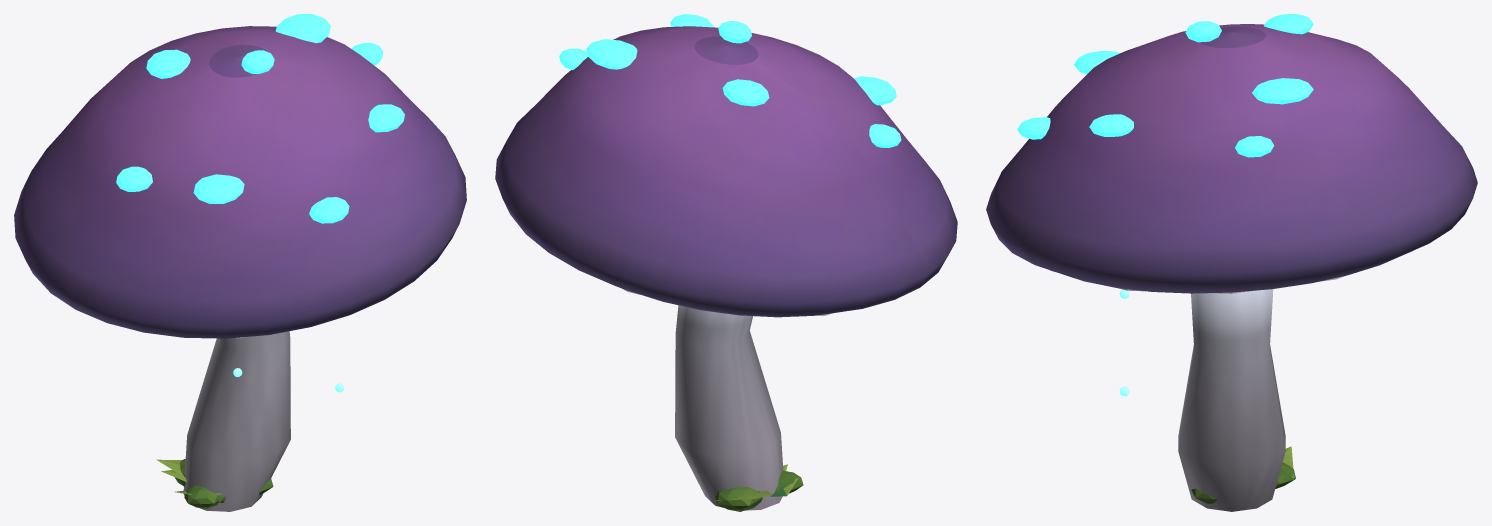
Rendered from forest_mushroom_purple.glb.
3 views of the same model, side by side, from view 1: azimuth 30°, elevation 25°; view 2: azimuth 150°, elevation 25°; view 3: azimuth 270°, elevation 25° (orthographic). The views are drawn at different scales.
Visible parts, largest first — view 1: Broad faceted mushroom cap.001, Curving luminous mushroom stem.001, Bioluminescent cap spot.008, Bioluminescent cap spot.012, Bioluminescent cap spot.011, Bioluminescent cap spot.009, Bioluminescent cap spot.010, Bioluminescent cap spot.014, Bioluminescent cap spot.013, Woodland shared moss cushion.024; view 2: Broad faceted mushroom cap.001, Curving luminous mushroom stem.001, Bioluminescent cap spot.012, Bioluminescent cap spot.011, Woodland shared moss cushion.022, Bioluminescent cap spot.008, Bioluminescent cap spot.014, Bioluminescent cap spot.013; view 3: Broad faceted mushroom cap.001, Curving luminous mushroom stem.001, Bioluminescent cap spot.012, Bioluminescent cap spot.009, Bioluminescent cap spot.011, Bioluminescent cap spot.015, Bioluminescent cap spot.013, Bioluminescent cap spot.010, Bioluminescent cap spot.008.
Part boxes in pixels (left/top/right/bottom): Broad faceted mushroom cap.001: left=14, top=26, right=466, bottom=338; Curving luminous mushroom stem.001: left=183, top=331, right=290, bottom=511; Bioluminescent cap spot.008: left=193, top=174, right=244, bottom=203; Bioluminescent cap spot.012: left=275, top=14, right=330, bottom=43; Bioluminescent cap spot.011: left=146, top=49, right=190, bottom=78; Bioluminescent cap spot.009: left=368, top=104, right=404, bottom=132; Bioluminescent cap spot.010: left=309, top=197, right=349, bottom=223; Bioluminescent cap spot.014: left=116, top=166, right=152, bottom=191; Bioluminescent cap spot.013: left=241, top=50, right=274, bottom=73; Woodland shared moss cushion.024: left=184, top=485, right=217, bottom=508; Broad faceted mushroom cap.001: left=495, top=26, right=957, bottom=317; Curving luminous mushroom stem.001: left=675, top=305, right=783, bottom=510; Bioluminescent cap spot.012: left=586, top=39, right=637, bottom=69; Bioluminescent cap spot.011: left=722, top=79, right=769, bottom=106; Woodland shared moss cushion.022: left=715, top=487, right=762, bottom=511; Bioluminescent cap spot.008: left=854, top=76, right=896, bottom=105; Bioluminescent cap spot.014: left=869, top=124, right=901, bottom=147; Bioluminescent cap spot.013: left=718, top=21, right=751, bottom=43; Broad faceted mushroom cap.001: left=986, top=24, right=1477, bottom=293; Curving luminous mushroom stem.001: left=1178, top=289, right=1285, bottom=511; Bioluminescent cap spot.012: left=1252, top=78, right=1313, bottom=104; Bioluminescent cap spot.009: left=1089, top=114, right=1133, bottom=136; Bioluminescent cap spot.011: left=1264, top=14, right=1313, bottom=34; Bioluminescent cap spot.015: left=1235, top=136, right=1274, bottom=157; Bioluminescent cap spot.013: left=1185, top=21, right=1221, bottom=42; Bioluminescent cap spot.010: left=1017, top=117, right=1050, bottom=139; Bioluminescent cap spot.008: left=1074, top=50, right=1119, bottom=74.
Bounding box in the file's own units: 1.74 × 1.89 × 1.74.
8 materials, 6 textured.
